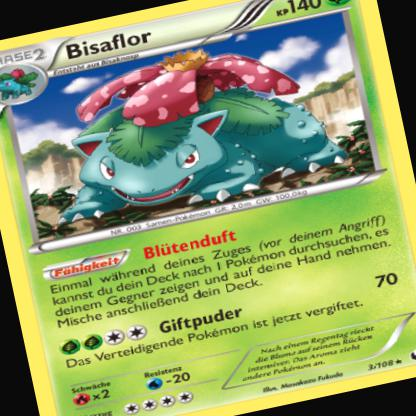Venusaur: (49, 23, 357, 233)
